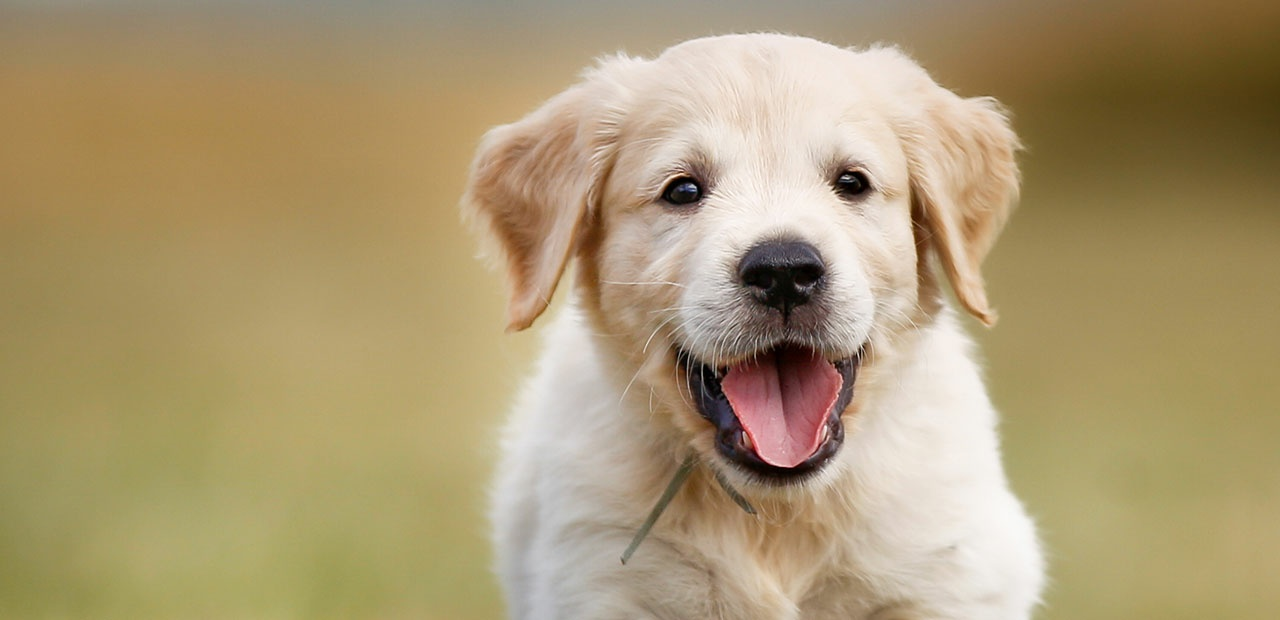dog: (468, 32, 1025, 498)
